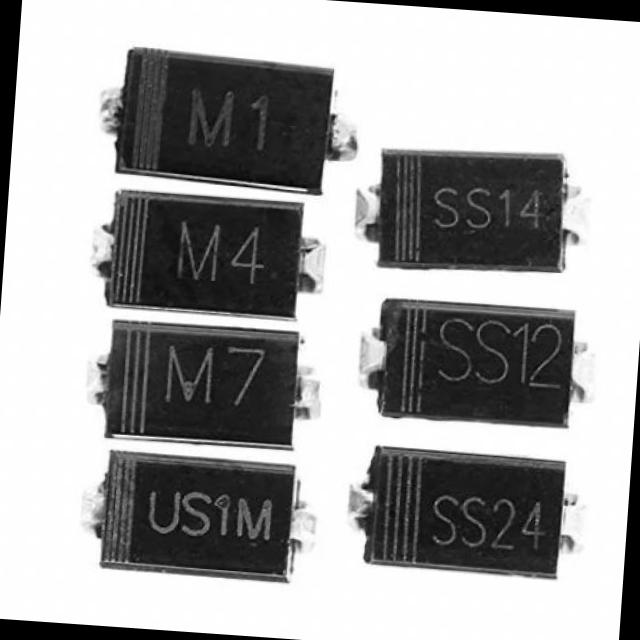diode: (97, 48, 354, 198), (364, 290, 582, 435), (352, 446, 583, 576), (91, 186, 315, 316), (366, 141, 574, 279), (93, 316, 307, 444), (85, 452, 296, 579)
